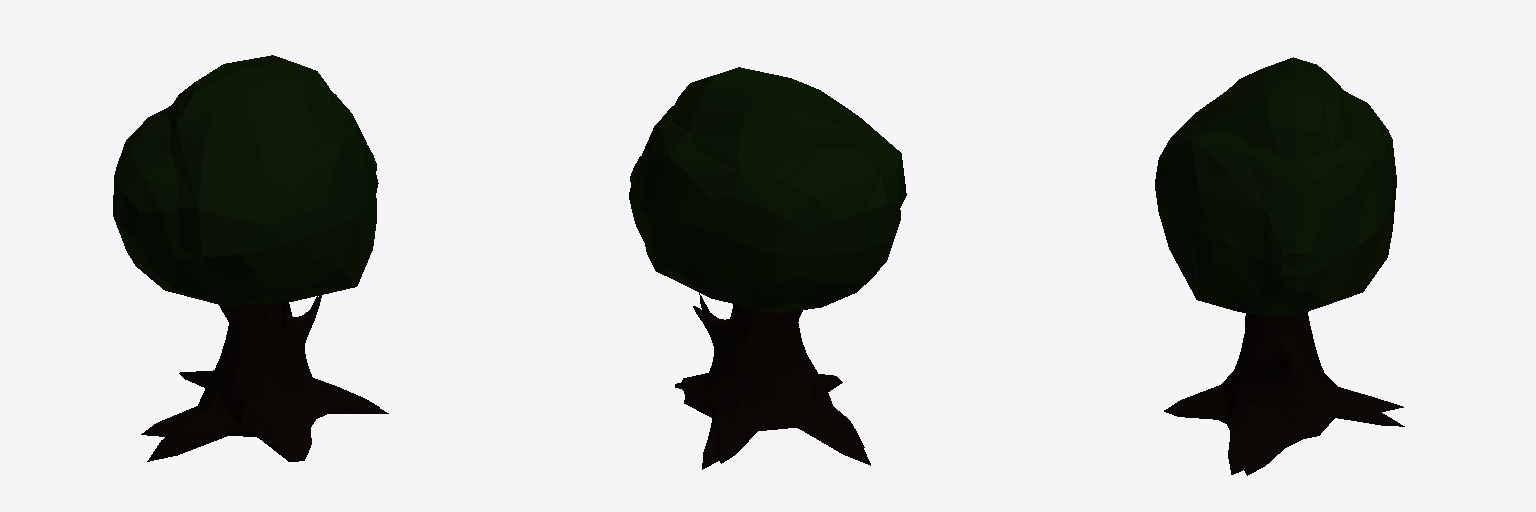
The model's file is EnemyTreeLeafVar2.obj.
3 renders of one model, left to right at view 1: azimuth 30°, elevation 25°; view 2: azimuth 150°, elevation 25°; view 3: azimuth 270°, elevation 25°, orthographic.
Parts seen in each view (by area): view 1: Cube.003, Cube.001, Cube.002, Cube; view 2: Cube.001, Cube.003, Cube.002, Cube; view 3: Cube.001, Cube.003, Cube.002, Cube.
Part boxes in pixels (x1,y1,x2,y2): Cube.003: (158, 55, 376, 287); Cube.001: (113, 93, 378, 305); Cube.002: (141, 295, 388, 461); Cube: (147, 296, 379, 461); Cube.001: (629, 106, 900, 313); Cube.003: (630, 67, 906, 246); Cube.002: (682, 293, 864, 469); Cube: (675, 306, 870, 465); Cube.001: (1155, 91, 1396, 317); Cube.003: (1174, 57, 1376, 268); Cube.002: (1164, 312, 1404, 474); Cube: (1244, 346, 1403, 475).
Size of the model in its own units: 14.15 by 19.54 by 12.19.